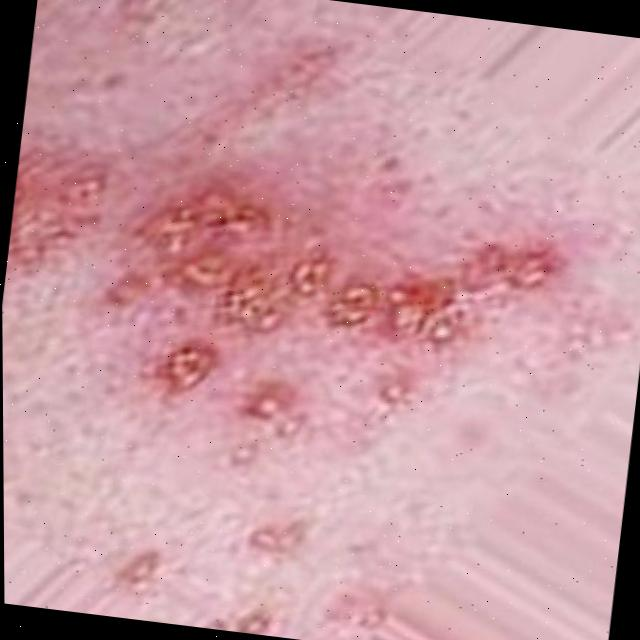Shingles: (1, 147, 550, 439)
